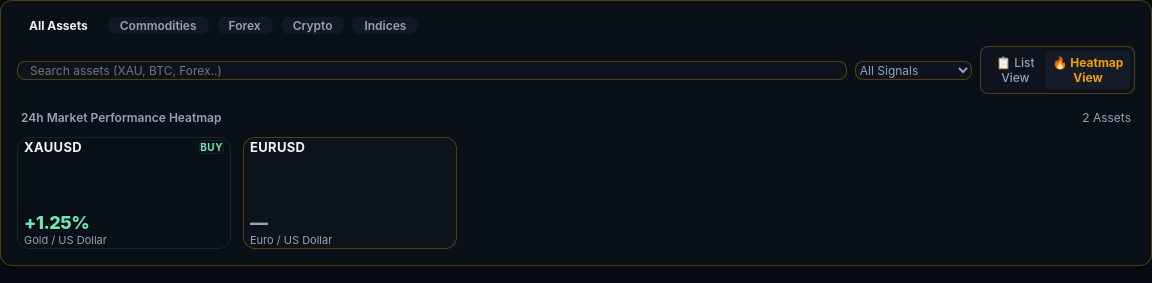
it: MarketScreener UI Component › allows switching between list and heatmap views and renders truthful unavailable states
The width and height of the screenshot is (1152, 283).
Click the button "📋 List View": click(1015, 70) x1=985 y1=51 x2=1046 y2=89
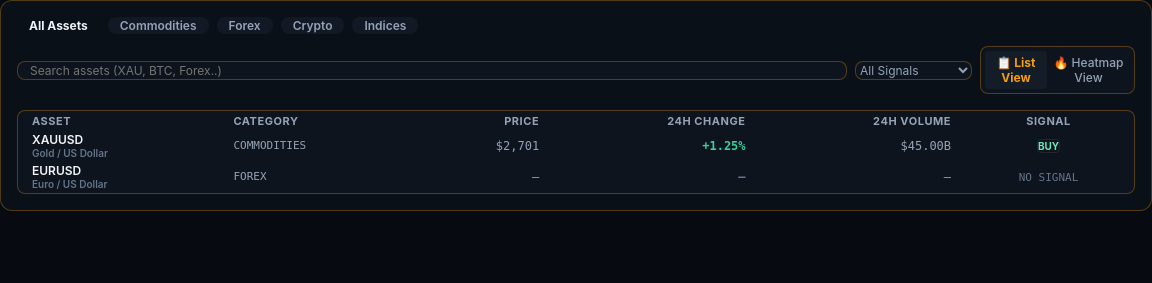
Now the text "24h Volume" is shown, box x1=760 y1=113 x2=963 y2=129
Now the text "Category" is shown, box x1=221 y1=113 x2=415 y2=129
Now the text "NO SIGNAL" is shown, box x1=1019 y1=171 x2=1078 y2=184
